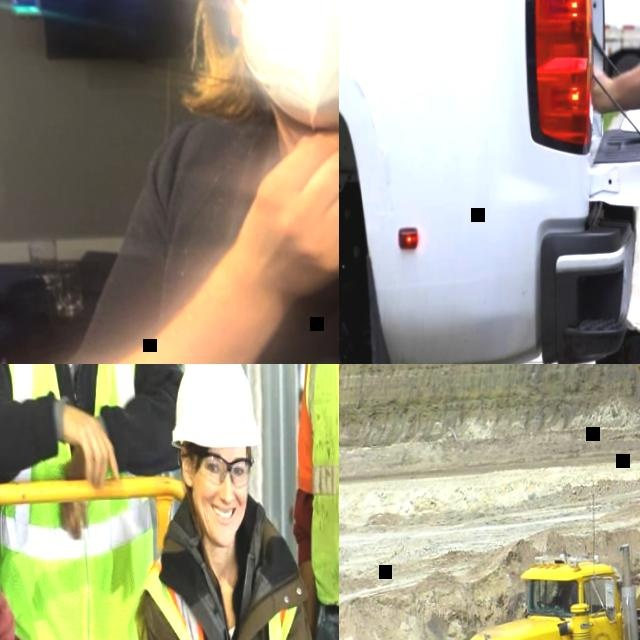Hardhat: (168, 364, 260, 455)
Mask: (236, 0, 339, 126)
NO-Mask: (193, 497, 243, 548)
NO-Safety Vest: (155, 108, 339, 364)
Person: (35, 0, 339, 364), (128, 364, 339, 640), (0, 364, 197, 640), (0, 364, 88, 640), (545, 582, 572, 609)
Safety Vest: (0, 364, 159, 640), (121, 553, 300, 640), (556, 588, 572, 607)
machinery: (439, 446, 640, 640)
vehicle: (339, 0, 640, 364)
